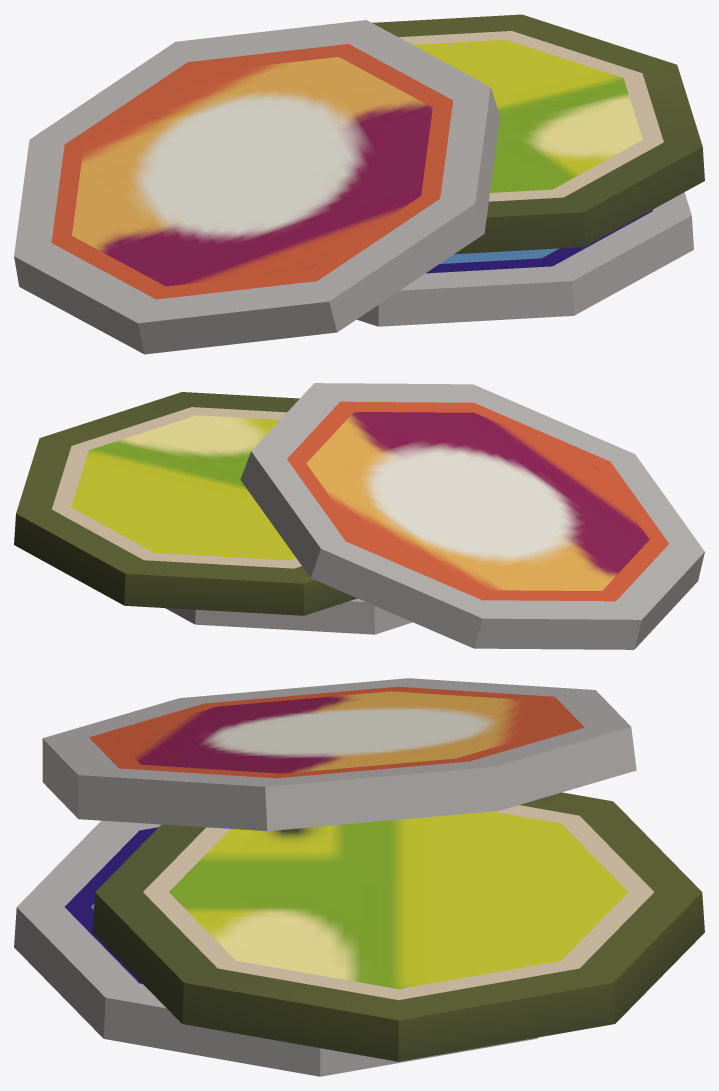
The model's file is SM_Prop_Coaster_Stack_02.obj.
3 renders of one model, top to bottom at view 1: azimuth 30°, elevation 25°; view 2: azimuth 150°, elevation 25°; view 3: azimuth 270°, elevation 25°, orthographic. The views are drawn at different scales.
Parts seen in each view (by area): view 1: SM_Prop_Coaster_Stack_02_0; view 2: SM_Prop_Coaster_Stack_02_0; view 3: SM_Prop_Coaster_Stack_02_0.
Part boxes in pixels (box(x1,y1,x2,y2)): SM_Prop_Coaster_Stack_02_0: box(14, 14, 704, 354); SM_Prop_Coaster_Stack_02_0: box(14, 383, 704, 649); SM_Prop_Coaster_Stack_02_0: box(14, 678, 704, 1076).
Bounding box in the file's own units: 0.2402 × 0.0526 × 0.183.
Materials: 1 (1 with a texture image).
